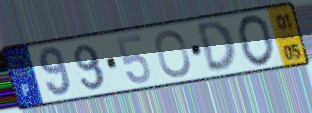5: (114, 32, 153, 85)
9: (37, 44, 74, 99), (72, 41, 108, 92)
D: (195, 19, 238, 74)
O: (236, 13, 277, 69), (153, 28, 193, 80)
